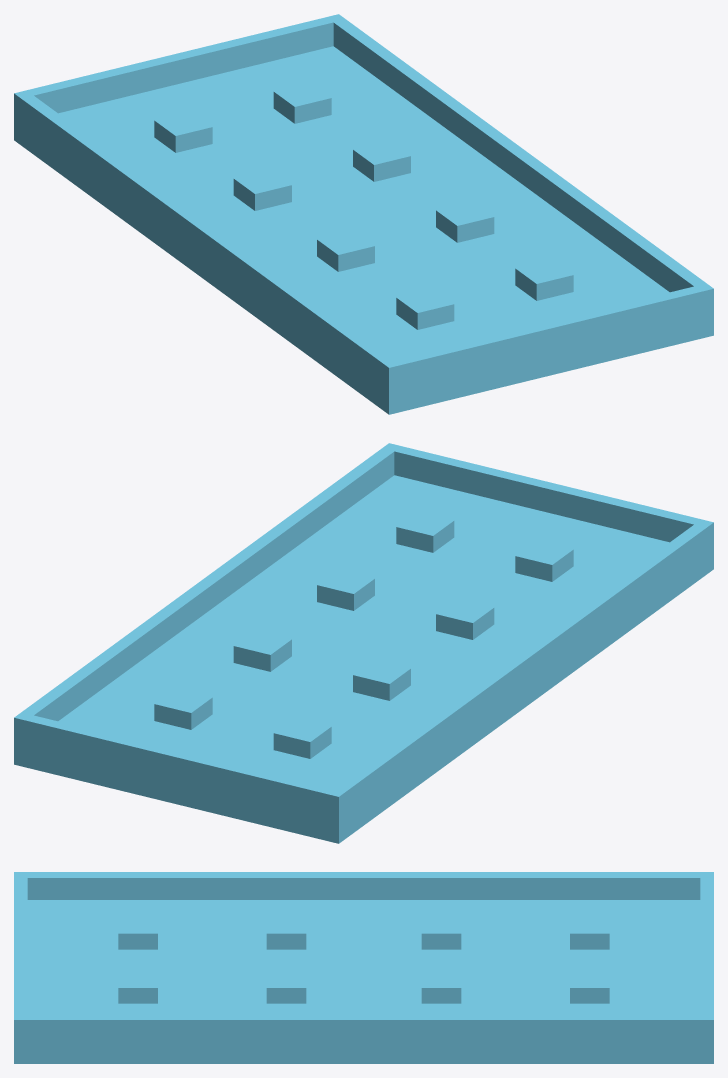
The model's file is Town_Bld-Lrg_Roof-Flat.FBX.
The picture shows the model from 3 angles, top to bottom: view 1: azimuth 30°, elevation 25°; view 2: azimuth 150°, elevation 25°; view 3: azimuth 270°, elevation 25°; orthographic projection. The views are drawn at different scales.
Visible parts, largest first — view 1: Town_Bld-Lrg_Roof-Flat; view 2: Town_Bld-Lrg_Roof-Flat; view 3: Town_Bld-Lrg_Roof-Flat.
Boxes of the visible parts, x1=… form: Town_Bld-Lrg_Roof-Flat: x1=14, y1=14, x2=713, y2=414; Town_Bld-Lrg_Roof-Flat: x1=14, y1=443, x2=713, y2=843; Town_Bld-Lrg_Roof-Flat: x1=14, y1=872, x2=713, y2=1063.
Size of the model in its own units: 600 by 82.84 by 1200.
